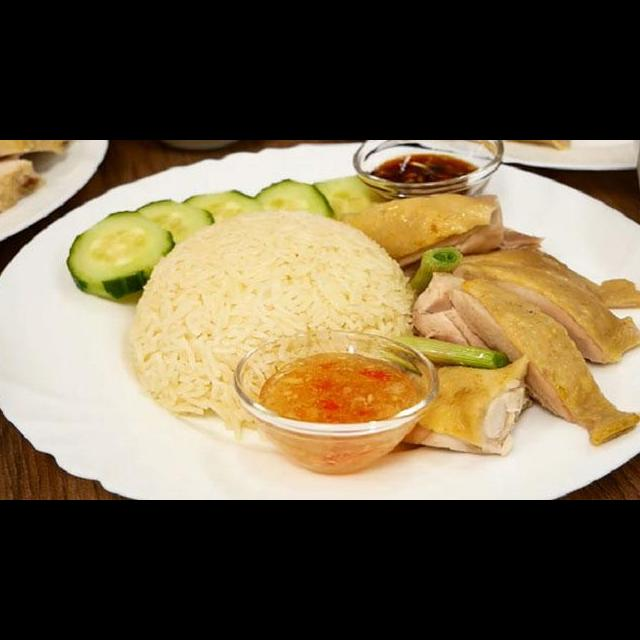com: (123, 207, 419, 448)
com ga: (65, 183, 640, 500)
thit ga: (404, 266, 640, 450), (426, 243, 640, 369), (317, 189, 510, 274), (395, 349, 538, 462)
